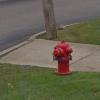Hydrant: (46, 36, 82, 80)
